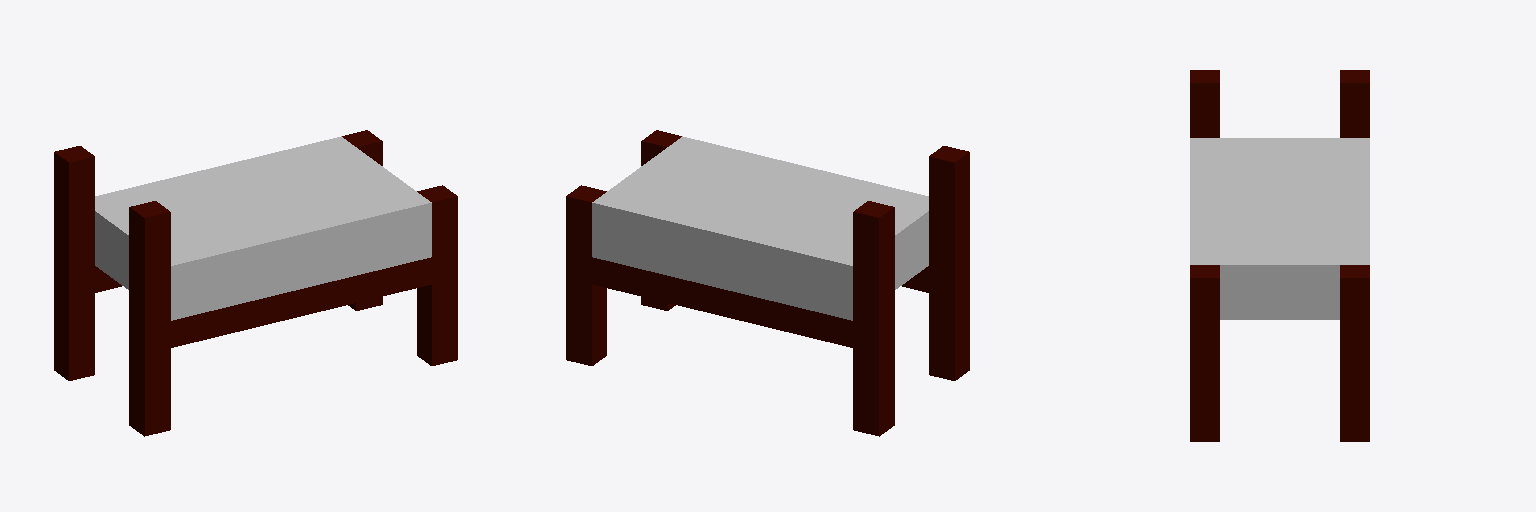
Rendered from bed.obj.
The picture shows the model from 3 angles: view 1: azimuth 30°, elevation 25°; view 2: azimuth 150°, elevation 25°; view 3: azimuth 270°, elevation 25°; orthographic projection.
Visible parts, largest first — view 1: Cube, Cube.003, Cube.004, Cube.006, Cube.001, Cube.002; view 2: Cube, Cube.004, Cube.003, Cube.005, Cube.002, Cube.001; view 3: Cube, Cube.001, Cube.002, Cube.003, Cube.004.
Part boxes in pixels (x1,y1,x2,y2): Cube: (95,136,431,320); Cube.003: (129,201,170,436); Cube.004: (54,146,94,380); Cube.006: (171,257,431,347); Cube.001: (417,185,457,365); Cube.002: (342,130,382,310); Cube: (592,136,928,320); Cube.004: (853,201,894,436); Cube.003: (929,146,969,380); Cube.005: (592,257,852,347); Cube.002: (566,185,606,365); Cube.001: (641,130,681,310); Cube: (1190,138,1369,319); Cube.001: (1190,265,1219,441); Cube.002: (1340,265,1369,441); Cube.003: (1190,70,1219,137); Cube.004: (1340,70,1369,137).
Bounding box in the file's own units: 12 × 8 × 6.